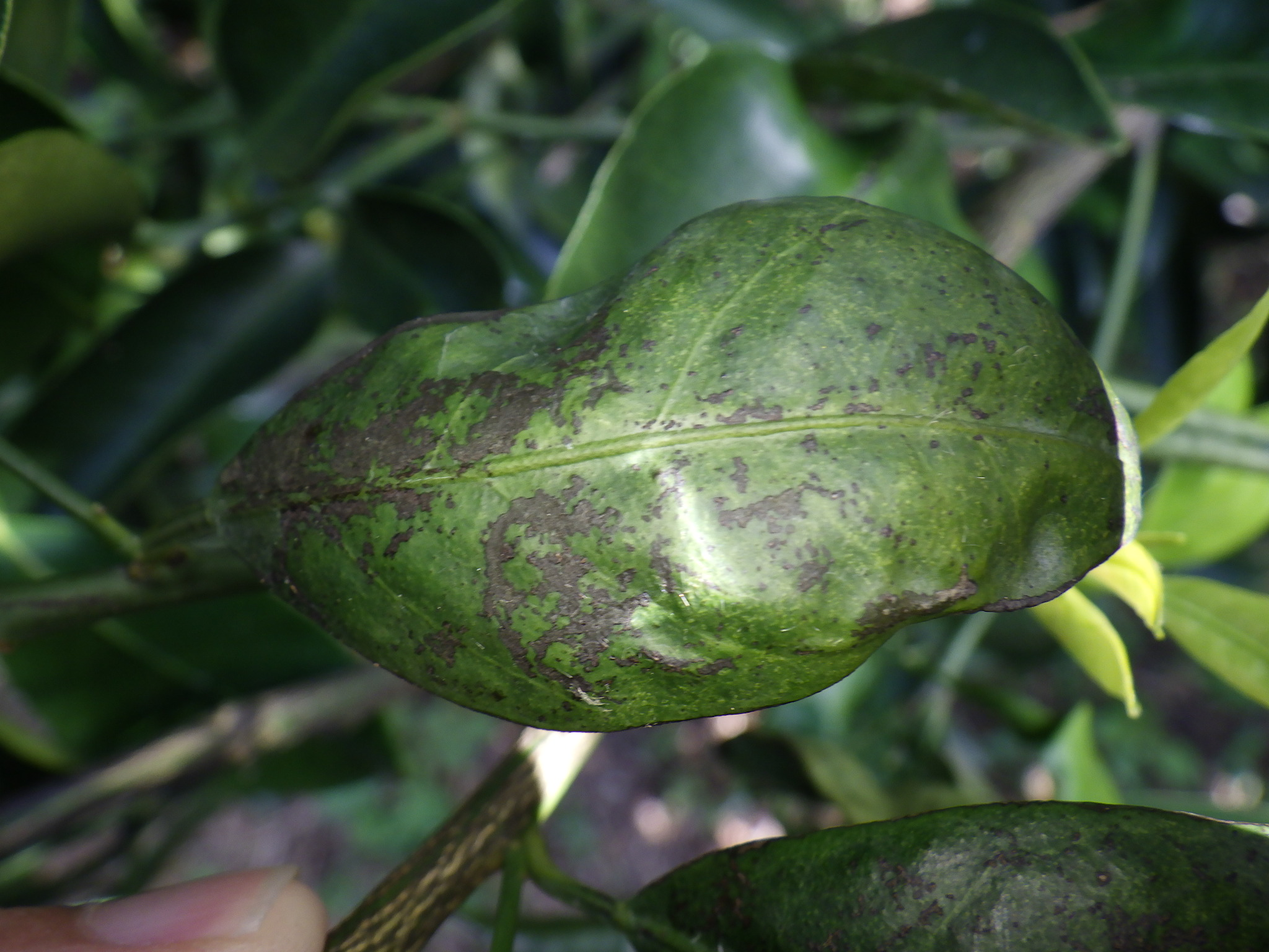Thrips_Damage: (222, 324, 977, 713)
